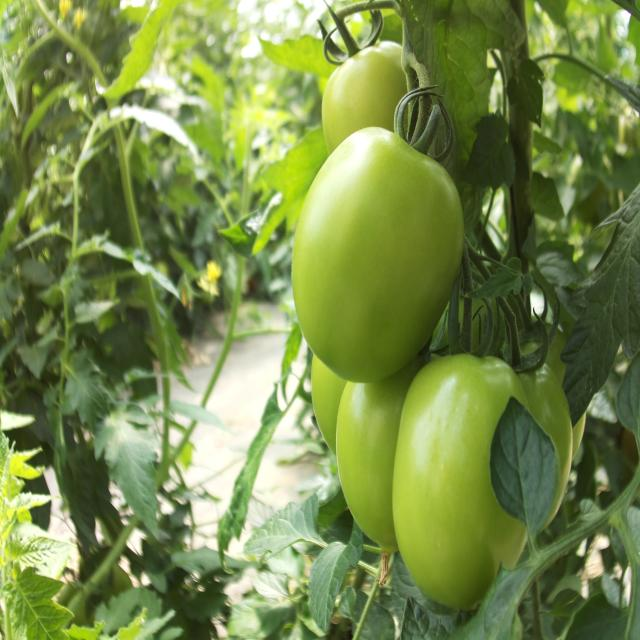unripe tomato: (254, 30, 604, 602)
